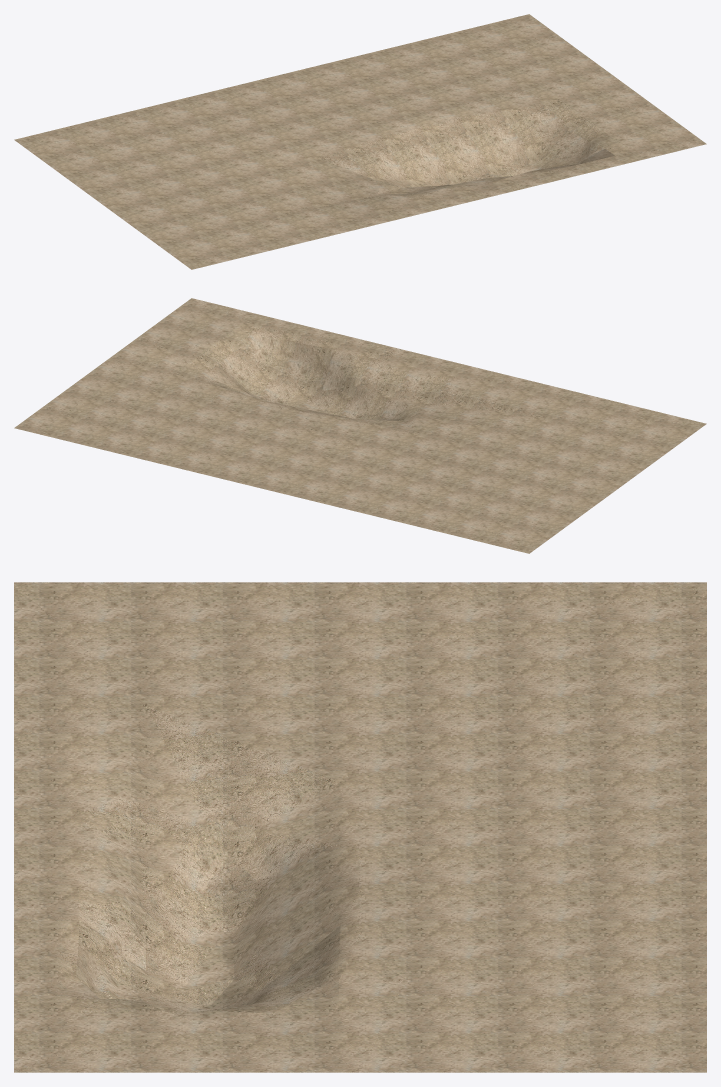
Rendered from park_ground_LOD1.FBX.
3 views of the same model, one above another, from view 1: azimuth 30°, elevation 25°; view 2: azimuth 150°, elevation 25°; view 3: azimuth 270°, elevation 25° (orthographic). The views are drawn at different scales.
Visible parts, largest first — view 1: Group10903; view 2: Group10903; view 3: Group10903.
Boxes of the visible parts, bbox=[...] form: Group10903: bbox=[14, 14, 706, 269]; Group10903: bbox=[14, 298, 706, 553]; Group10903: bbox=[14, 582, 706, 1072].
Bounding box in the file's own units: 93.18 × 6.21 × 55.65.
1 material, 1 textured.
